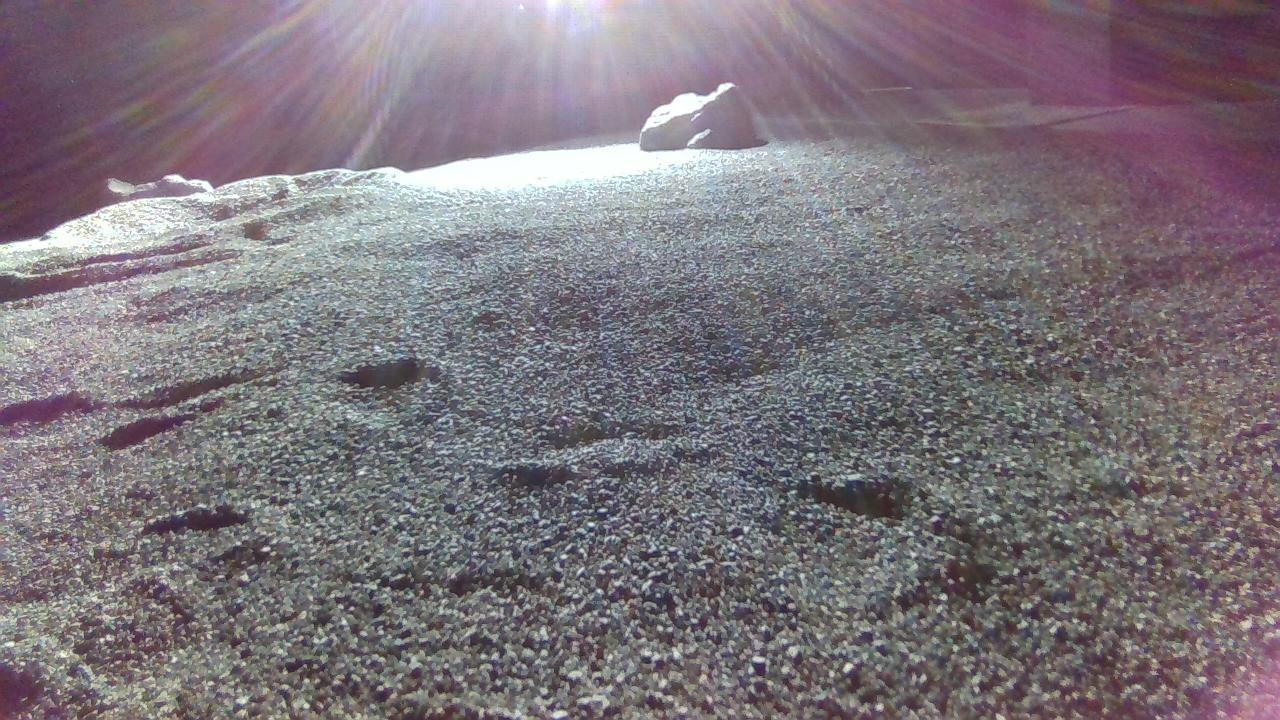rock: (641, 81, 765, 150)
